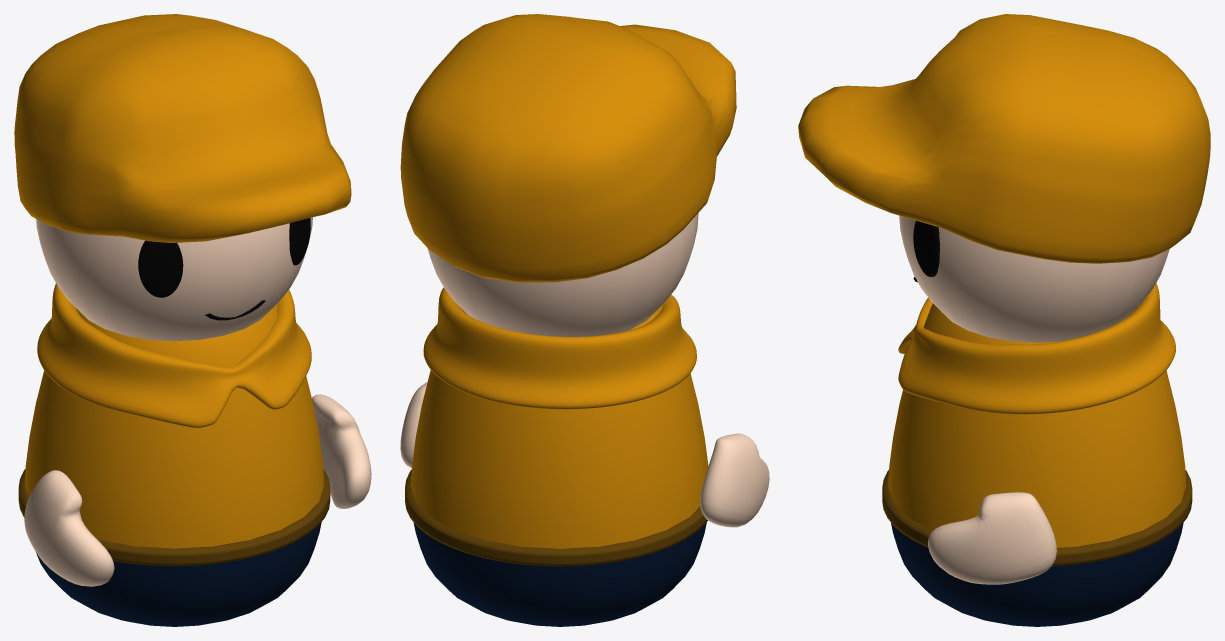
The model's file is Player 02 FBX basic.fbx.
The picture shows the model from 3 angles, left to right: view 1: azimuth 30°, elevation 25°; view 2: azimuth 150°, elevation 25°; view 3: azimuth 270°, elevation 25°; orthographic projection.
Parts seen in each view (by area): view 1: Gorra, Playera, Cabeza, Cuello, Pantalon, Mano_der, Cinturon, Mano_izq, Ojos; view 2: Gorra, Playera, Cuello, Pantalon, Cabeza, Cinturon, Mano_der, Mano_izq; view 3: Gorra, Playera, Cuello, Cabeza, Pantalon, Mano_izq, Cinturon, Ojos.
Part boxes in pixels (box(x1,y1,x2,y2)): Gorra: box(14, 14, 351, 242); Playera: box(24, 304, 324, 548); Cabeza: box(36, 217, 312, 341); Cuello: box(37, 283, 311, 427); Pantalon: box(36, 522, 321, 626); Mano_der: box(24, 470, 114, 586); Cinturon: box(18, 469, 330, 566); Mano_izq: box(312, 394, 371, 508); Ojos: box(138, 218, 310, 297); Gorra: box(400, 14, 736, 282); Playera: box(411, 304, 708, 548); Cuello: box(423, 287, 696, 409); Pantalon: box(413, 522, 706, 626); Cabeza: box(427, 213, 698, 336); Cinturon: box(405, 470, 707, 566); Mano_der: box(700, 433, 769, 527); Mano_izq: box(400, 382, 427, 467); Gorra: box(798, 14, 1210, 263); Playera: box(888, 303, 1186, 547); Cuello: box(898, 283, 1175, 414); Cabeza: box(899, 215, 1169, 342); Pantalon: box(891, 523, 1183, 626); Mano_izq: box(928, 492, 1056, 584); Cinturon: box(882, 470, 1192, 566); Ojos: box(913, 220, 939, 276).
Bounding box in the file's own units: 2.51 × 4.17 × 2.76.
